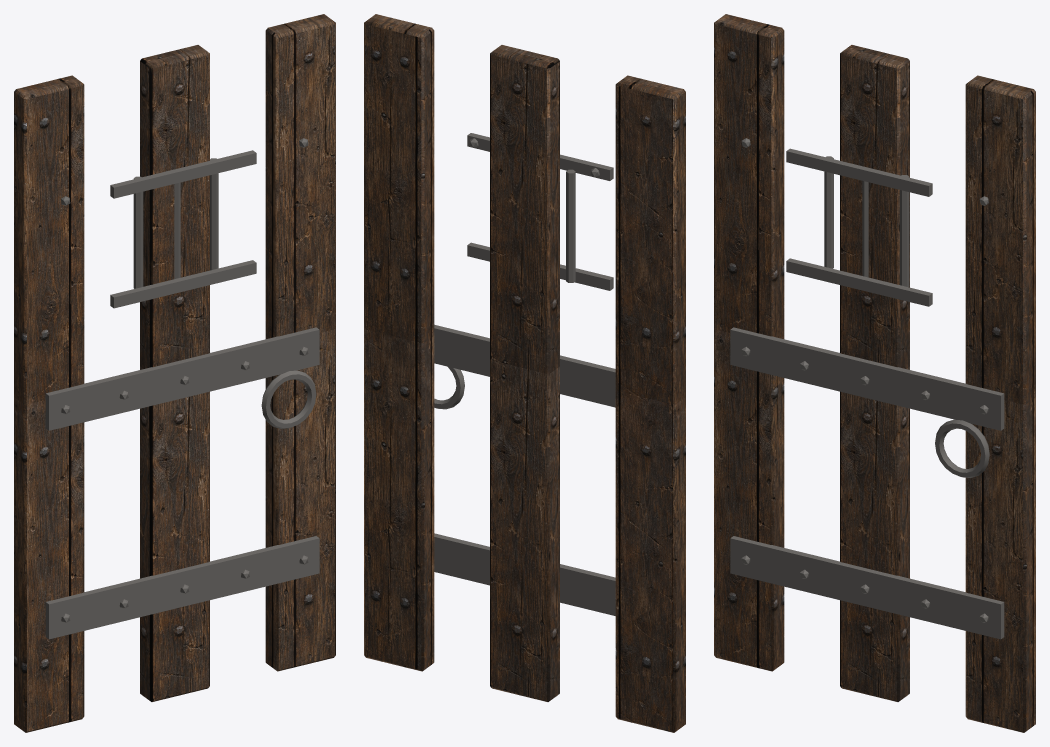
File: barred-door-v01.glb
3 views of the same model, side by side, from view 1: azimuth 30°, elevation 25°; view 2: azimuth 150°, elevation 25°; view 3: azimuth 330°, elevation 25° (orthographic).
Visible parts, largest first — view 1: barred-door; view 2: barred-door; view 3: barred-door.
Part boxes in pixels (box(x1,y1,x2,y2)): barred-door: box(14, 14, 335, 732); barred-door: box(364, 14, 685, 732); barred-door: box(714, 14, 1035, 732).
Bounding box in the file's own units: 1.49 × 2.9 × 0.1773.
Materials: 2 (1 with a texture image).
